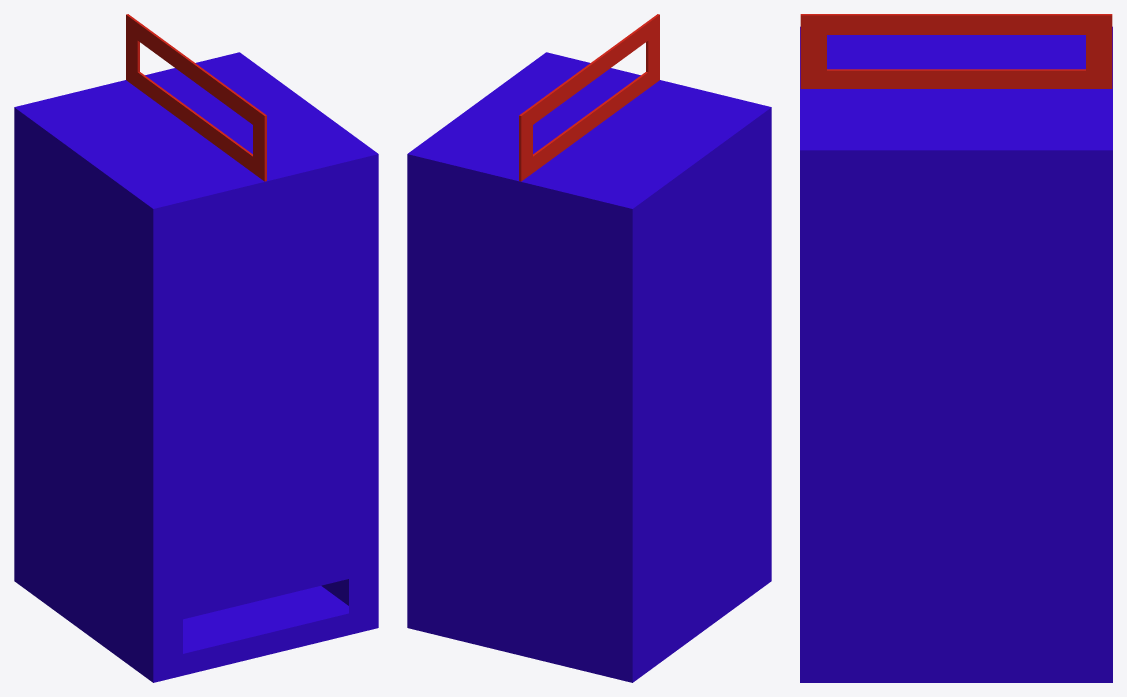
Rendered from box pill.fbx.
3 renders of one model, left to right at view 1: azimuth 30°, elevation 25°; view 2: azimuth 150°, elevation 25°; view 3: azimuth 270°, elevation 25°, orthographic. The views are drawn at different scales.
Parts seen in each view (by area): view 1: Cube.002, Cube.003; view 2: Cube.002, Cube.003; view 3: Cube.002, Cube.003.
Boxes of the visible parts, x1,y1,x2,y2 form: Cube.002: (14,52,378,682); Cube.003: (126,14,266,181); Cube.002: (407,52,771,682); Cube.003: (519,14,659,181); Cube.002: (800,26,1112,682); Cube.003: (800,14,1112,88).
Bounding box in the file's own units: 11.82 × 27.04 × 12.64.
